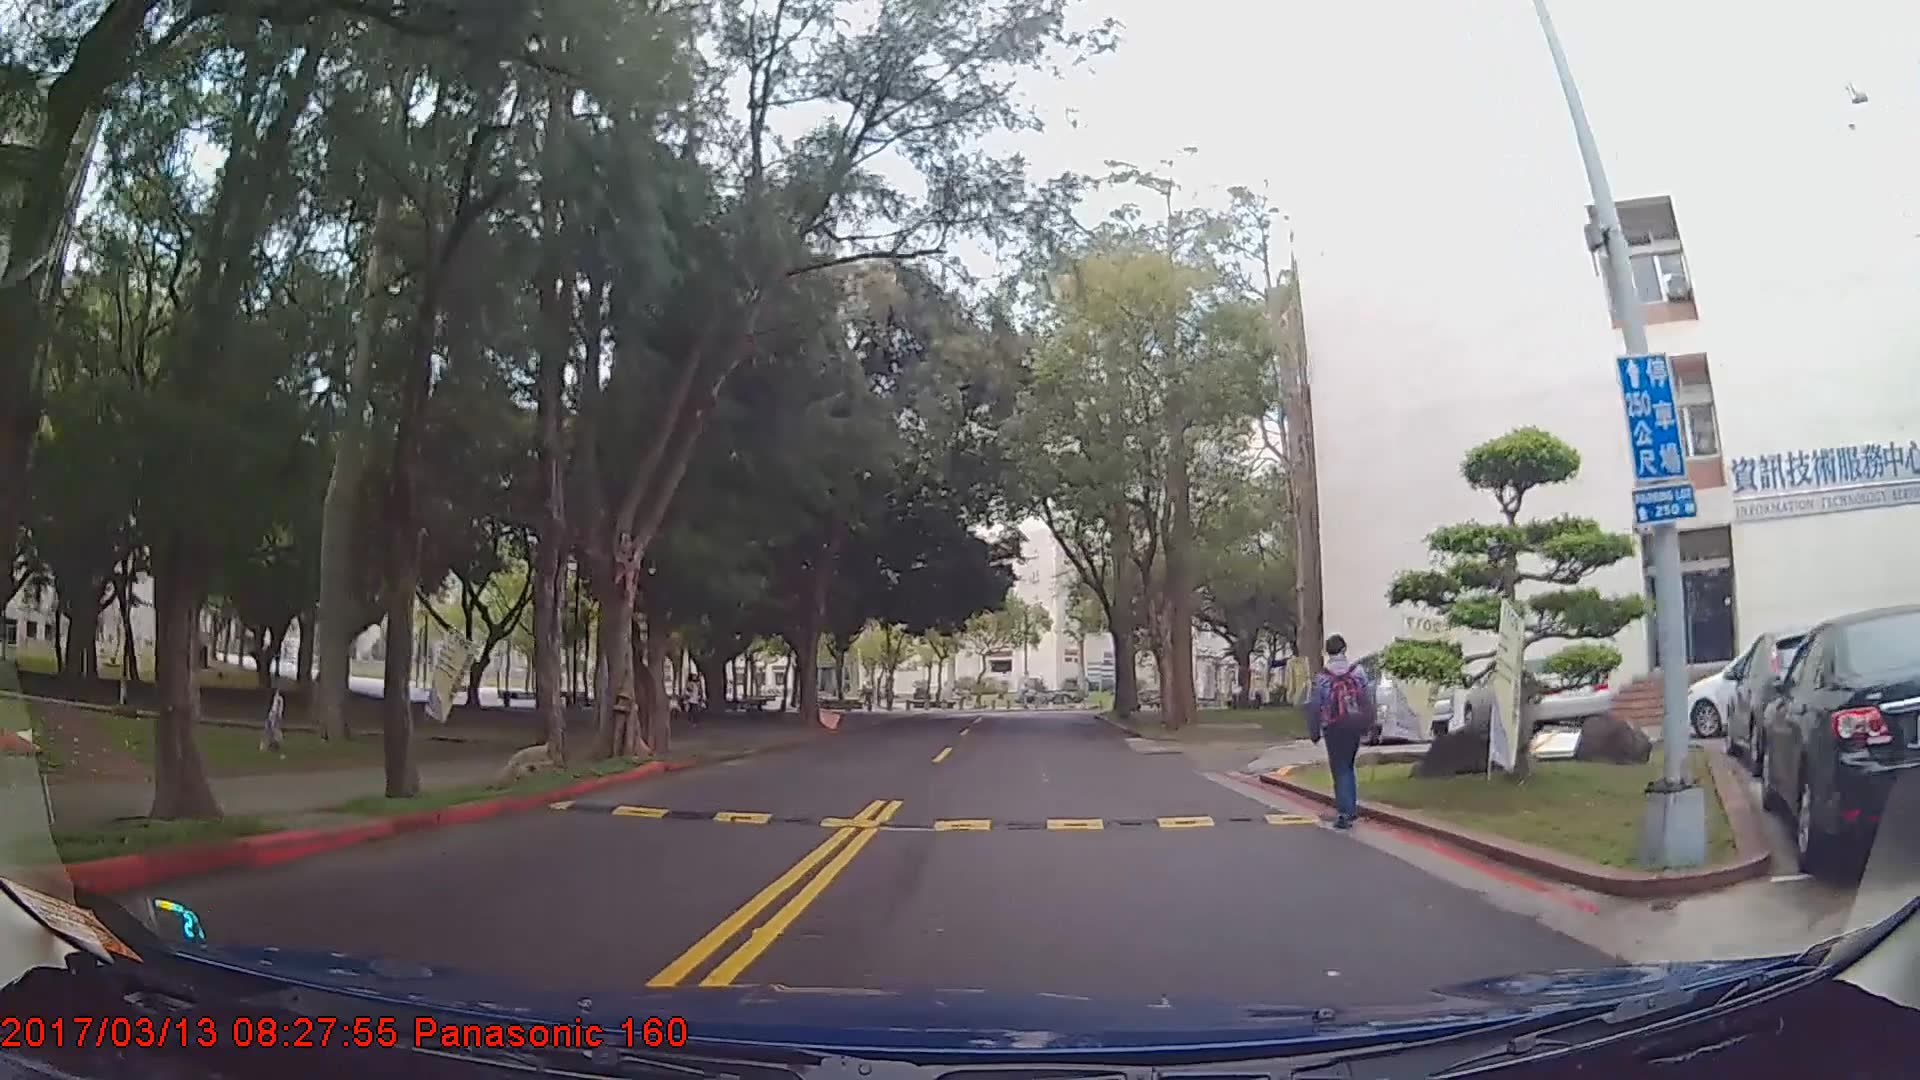pedestrian: (1306, 634, 1385, 834), (682, 670, 706, 733)
vehicle: (1757, 603, 1920, 876)
